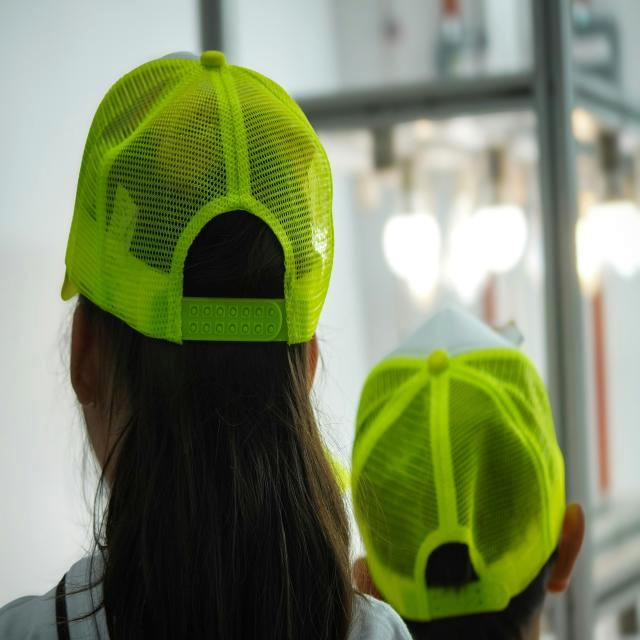no_hard_hat: (61, 52, 334, 344), (351, 310, 565, 622)
person: (0, 52, 355, 640), (351, 309, 584, 640)
